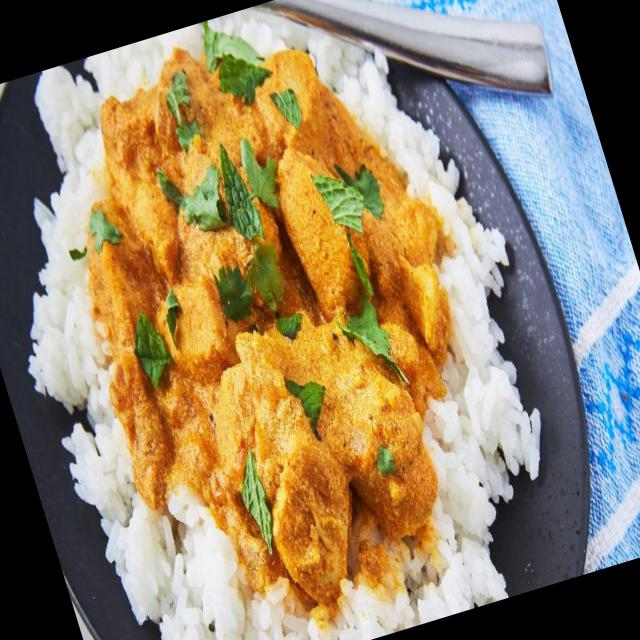chicken: (66, 66, 494, 580)
rice: (35, 74, 502, 640)
